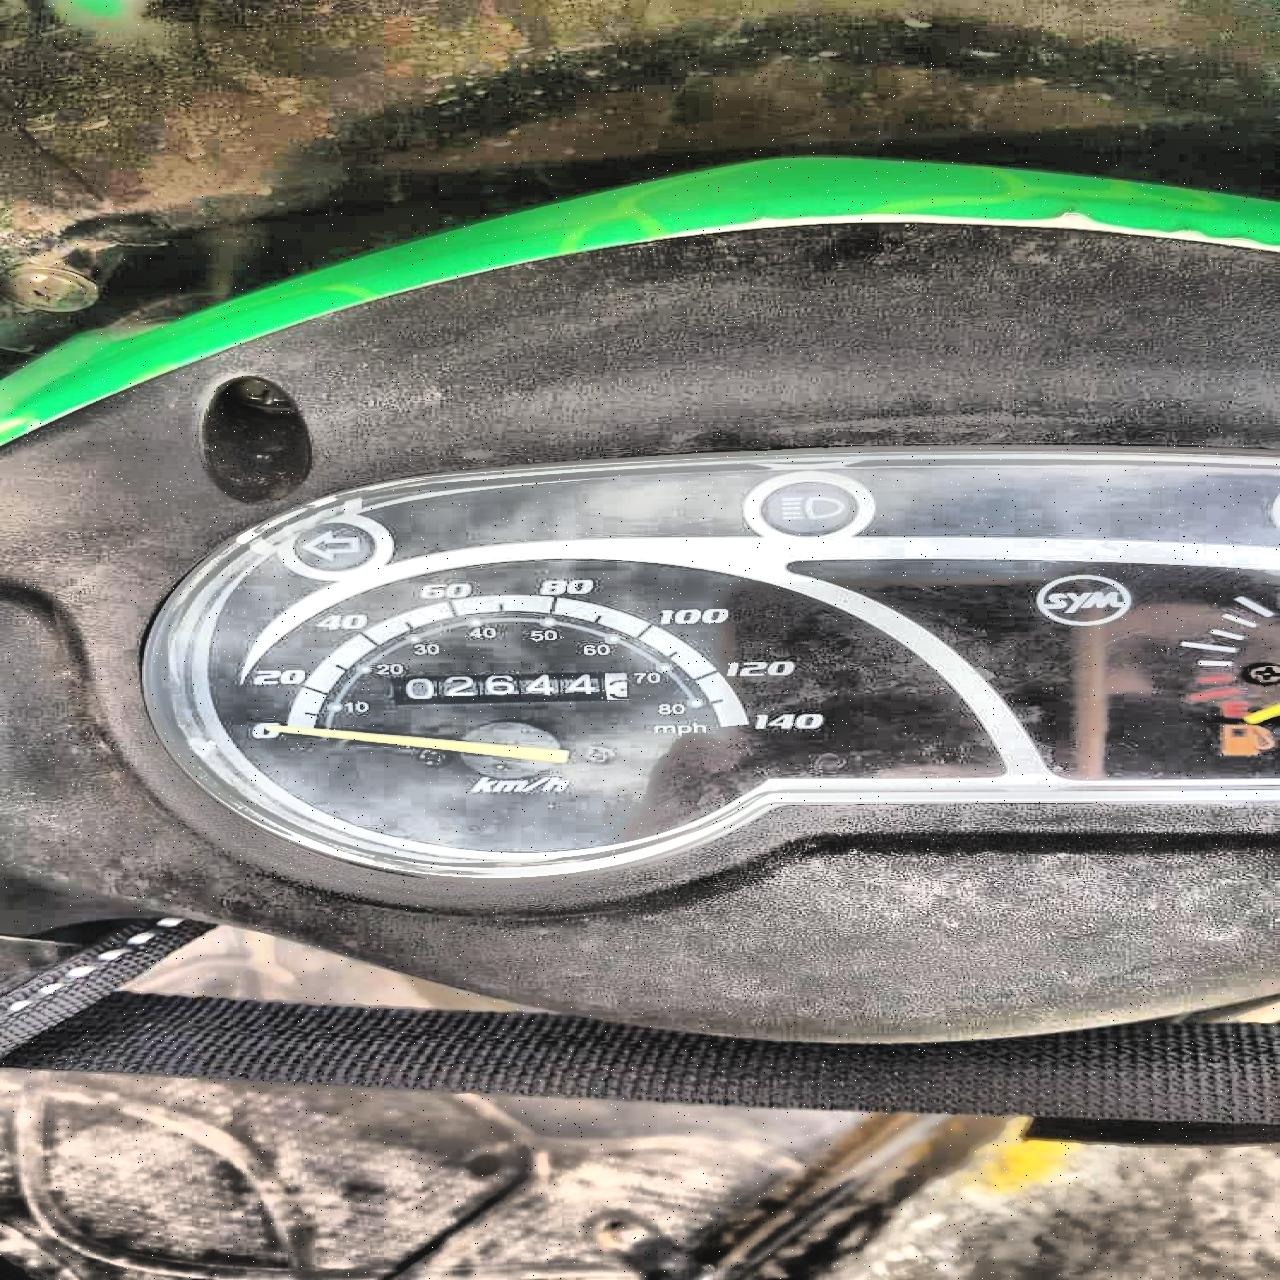0: (403, 675, 435, 701)
2: (443, 675, 475, 697)
3: (605, 678, 631, 700)
4: (564, 673, 598, 695), (523, 673, 557, 695)
6: (483, 673, 516, 695)
odometer: (389, 669, 634, 706)
